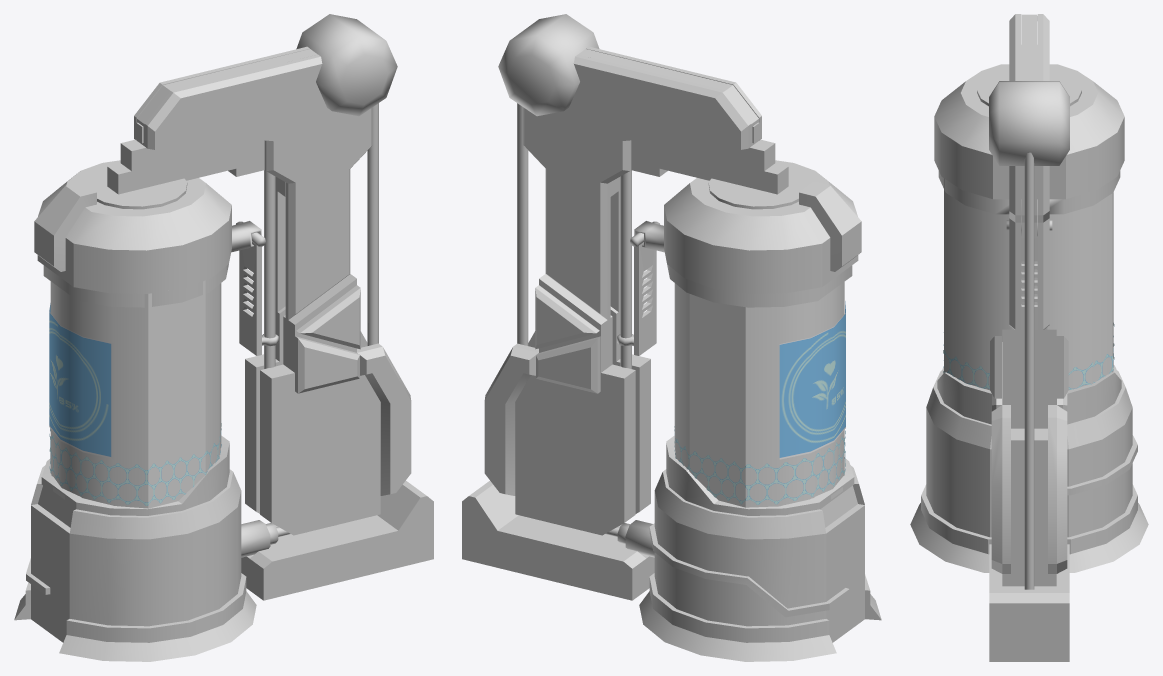
Rendered from LowPoly_Model.fbx.
The picture shows the model from 3 angles, left to right: view 1: azimuth 30°, elevation 25°; view 2: azimuth 150°, elevation 25°; view 3: azimuth 270°, elevation 25°; orthographic projection.
Parts seen in each view (by area): view 1: Cube, Cube.001, Cube.002; view 2: Cube, Cube.001, Cube.002; view 3: Cube, Cube.002.
Part boxes in pixels (x1,y1,x2,y2): Cube: [14, 14, 433, 661]; Cube.001: [49, 303, 113, 458]; Cube.002: [49, 423, 221, 505]; Cube: [462, 14, 881, 661]; Cube.001: [779, 301, 845, 459]; Cube.002: [674, 426, 845, 504]; Cube: [910, 14, 1148, 661]; Cube.002: [943, 323, 1114, 389].
Size of the model in its own units: 427 by 580 by 230.
Materials: 6 (3 with a texture image).
